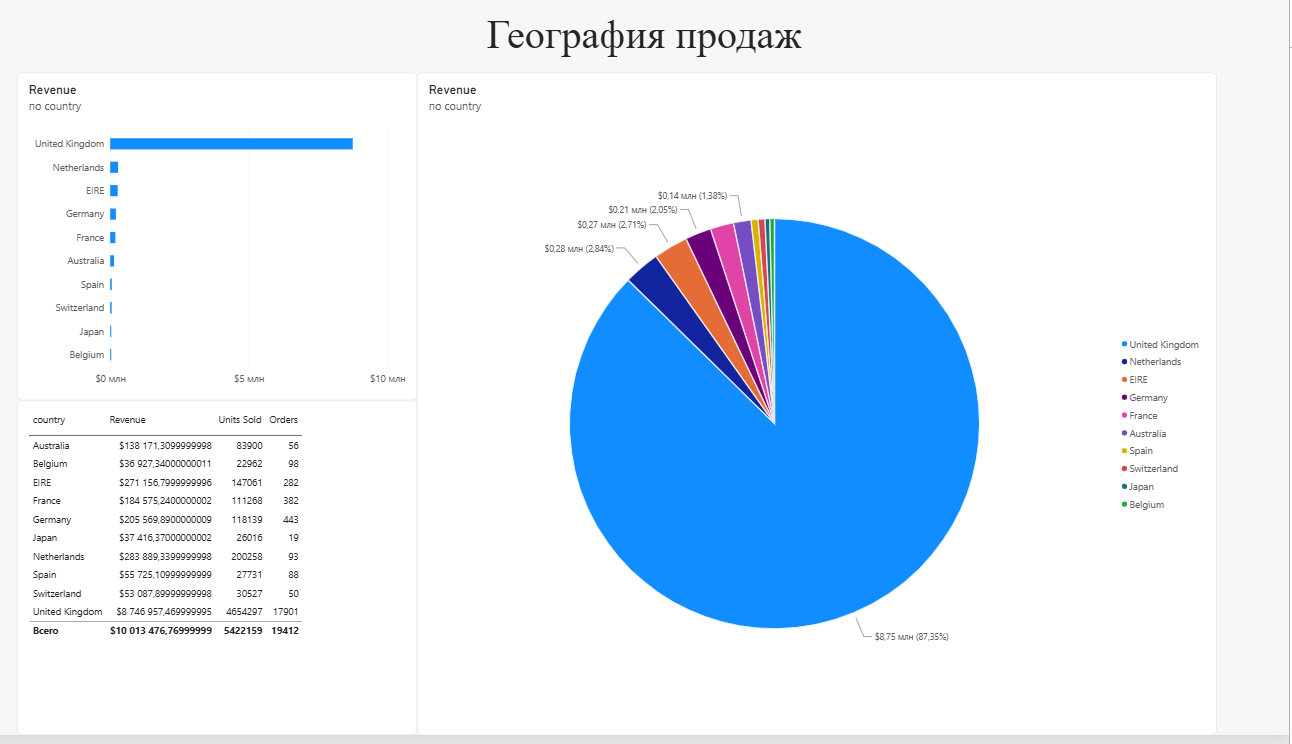

Layout of this report page (visuals, bound fields, positions):
{"tool":"powerbi","page":{"name":"География продаж","canvas":[1920,1080],"ordinal":1},"visuals":[{"type":"pieChart","fields":{"Category":["public online_retail_sales.country"],"Y":["public online_retail_sales.Revenue"]},"box":[647.8,112.3,1167,968.1],"z":0},{"type":"clusteredBarChart","fields":{"Category":["public online_retail_sales.country"],"Y":["public online_retail_sales.Revenue"]},"box":[64.8,112,583.5,478.9],"z":1000},{"type":"tableEx","fields":{"Values":["public online_retail_sales.country","public online_retail_sales.Revenue","public online_retail_sales.Units Sold","public online_retail_sales.Orders"]},"box":[64.2,590.9,583.5,489.2],"z":2000},{"type":"textbox","box":[97.3,25,1763.8,75.1],"z":3000}]}

Visuals, with their boxes in screenshot pixels (x1, y1, x2, y2), scaled from the page's 1920x1080 canvas onto the 1292x744 screenshot:
pieChart - public online_retail_sales.country x public online_retail_sales.Revenue: x1=436, y1=77, x2=1221, y2=743
clusteredBarChart - public online_retail_sales.country x public online_retail_sales.Revenue: x1=44, y1=77, x2=436, y2=407
tableEx - public online_retail_sales.country x public online_retail_sales.Revenue: x1=43, y1=407, x2=436, y2=743
textbox: x1=65, y1=17, x2=1252, y2=69
